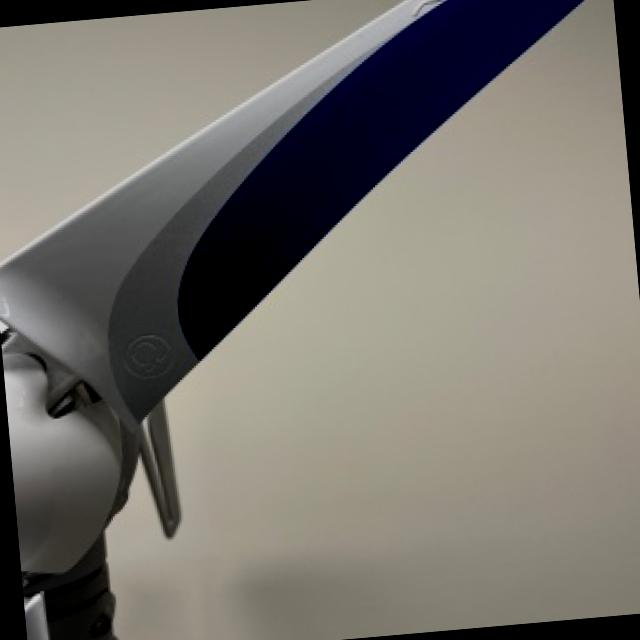healthy: (109, 0, 640, 640)
